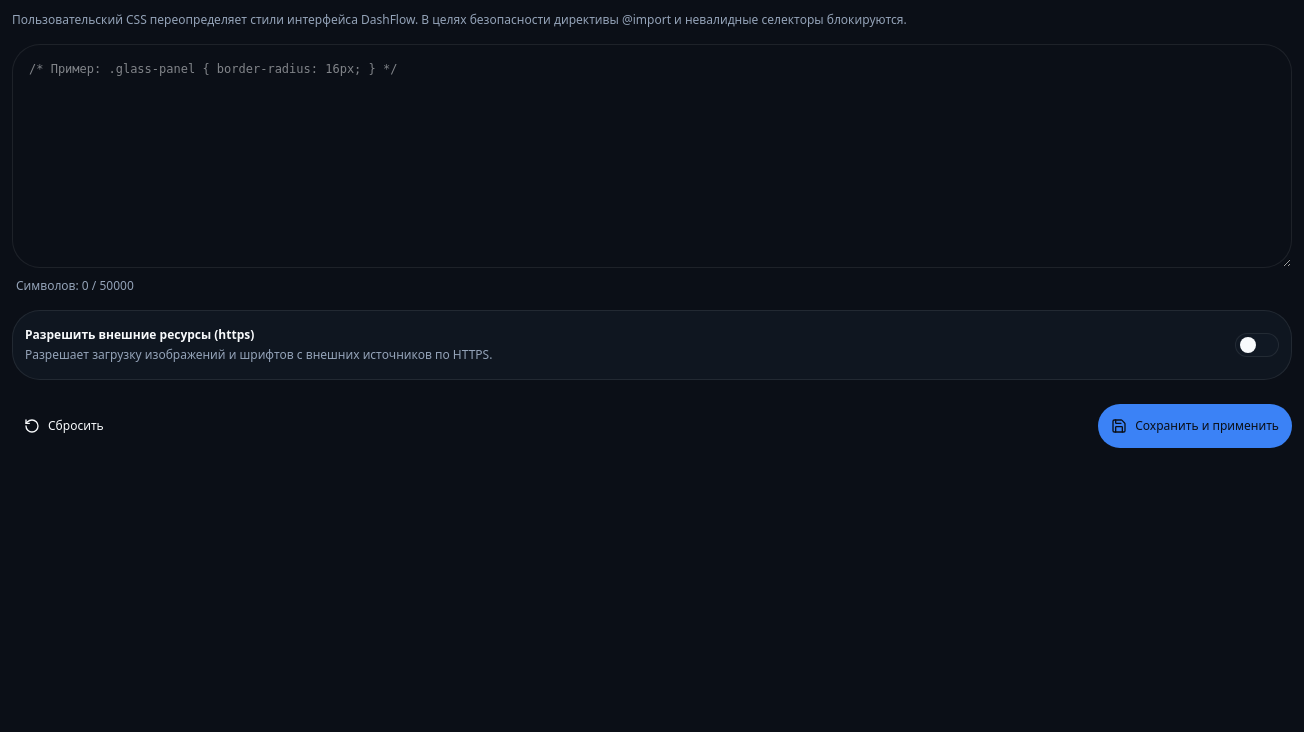
Test case: CustomCssEditor › показывает ошибку при вводе запрещенного CSS
Type "@import url(\"https://bad.com/x.css\");" into the text box with placeholder "/* Пример: .glass-panel { border-radius: 16px; } */". click: [652, 156]
box: x1=12 y1=44 x2=1292 y2=268
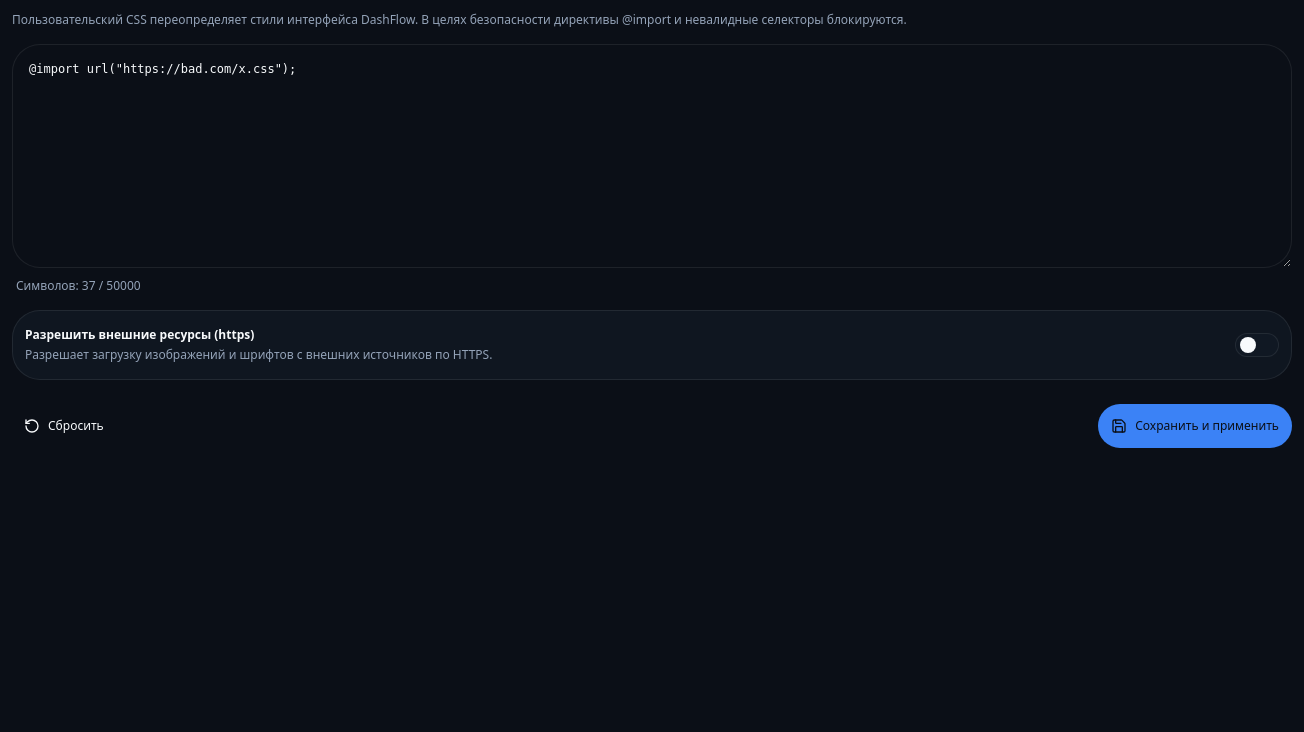
Click the button "Сохранить и применить". click: [1195, 426]
box: x1=1098 y1=404 x2=1292 y2=448
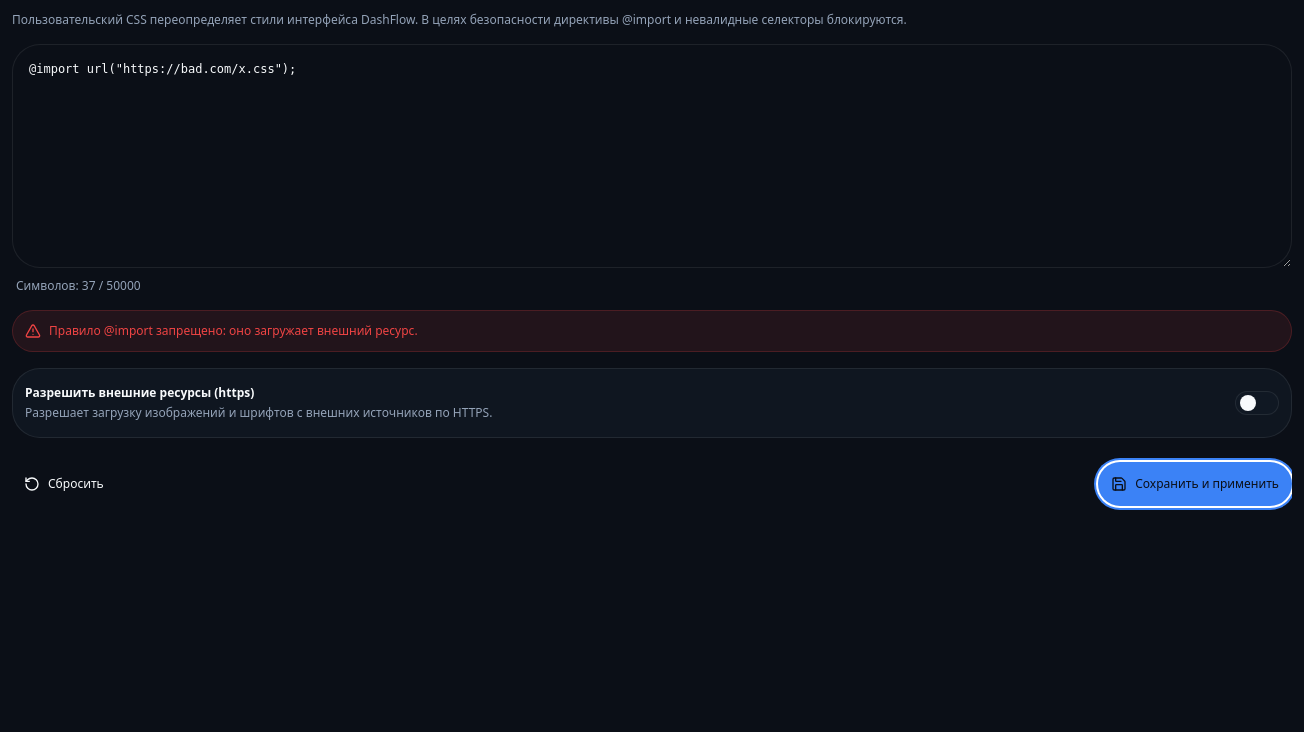
Check: the text "Правило @import запрещено: оно загружает внешний ресурс." is shown, box x1=49 y1=323 x2=418 y2=339
